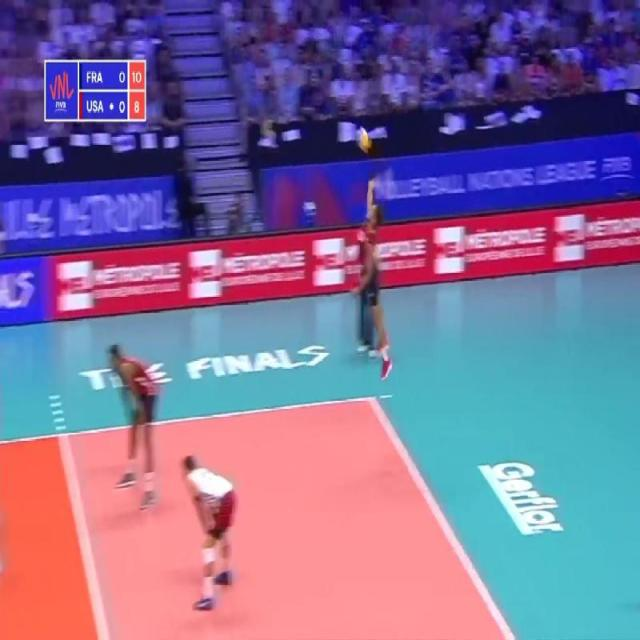volleyball: (358, 129, 372, 150)
